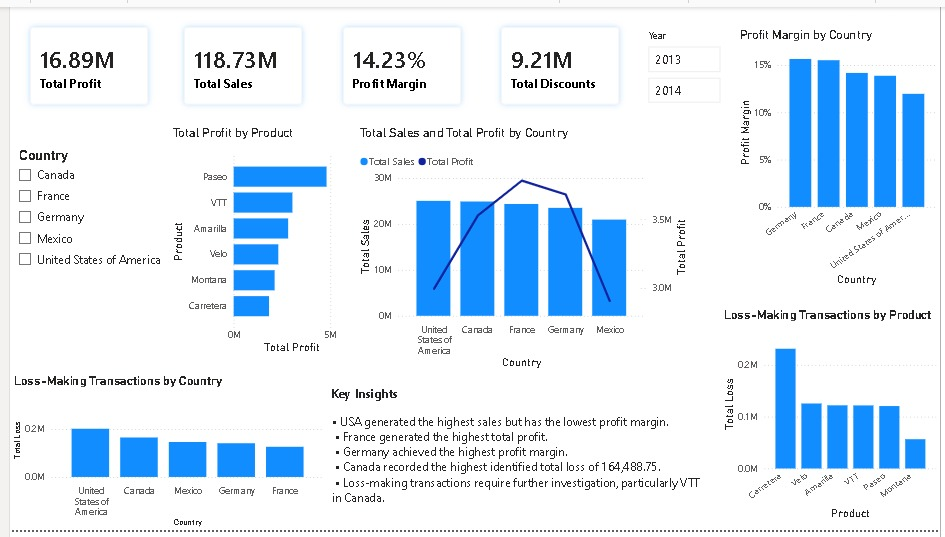

Layout of this report page (visuals, bound fields, positions):
{"tool":"powerbi","page":{"name":"Page 1","canvas":[1280,720],"ordinal":0},"visuals":[{"type":"cardVisual","fields":{"Data":["Measures (2).Total Profit"]},"box":[0,0,218,162.4],"z":0},{"type":"cardVisual","fields":{"Data":["Measures (2).Total Sales"]},"box":[212.2,0,218,162],"z":1000},{"type":"cardVisual","fields":{"Data":["Measures (2).Profit Margin"]},"box":[430.2,0,218,162],"z":2000},{"type":"cardVisual","fields":{"Data":["Measures (2).Total Discounts"]},"box":[648.3,0,218,162],"z":3000},{"type":"slicer","fields":{"Values":["Fact_Sales.Country"]},"box":[0,187.2,213.3,225.7],"z":4000},{"type":"slicer","fields":{"Values":["Fact_Sales.Year"]},"box":[865.7,27.5,140.4,106],"z":5000},{"type":"lineClusteredColumnComboChart","fields":{"Category":["Fact_Sales.Country"],"Y":["Measures (2).Total Sales"],"Y2":["Measures (2).Total Profit"]},"box":[476.2,162.4,459.7,340],"z":6000},{"type":"clusteredColumnChart","fields":{"Category":["Fact_Sales.Country"],"Y":["Measures (2).Profit Margin"]},"box":[999.2,27.5,280.8,360.6],"z":7000},{"type":"clusteredBarChart","fields":{"Category":["Fact_Sales.Product"],"Y":["Measures (2).Total Profit"]},"box":[218.8,162.4,262.9,319.3],"z":8000},{"type":"clusteredColumnChart","title":"Loss-Making Transactions by Country","fields":{"Category":["Fact_Sales.Country"],"Y":["Measures (2).Total Loss"]},"box":[0,503.7,437.7,216.1],"z":9001},{"type":"clusteredColumnChart","title":"Loss-Making Transactions by Product","fields":{"Y":["Measures (2).Total Loss"],"Category":["Fact_Sales.Product"]},"box":[977.2,412.9,302.8,297.3],"z":9002},{"type":"textbox","box":[437.7,516.1,529.9,203.7],"z":9003}]}

Visuals, with their boxes in screenshot pixels (x1, y1, x2, y2), scaled from the page's 1280x720 canvas onto the 945x537 screenshot:
cardVisual - Measures (2).Total Profit: left=0, top=0, right=161, bottom=121
cardVisual - Measures (2).Total Sales: left=157, top=0, right=318, bottom=121
cardVisual - Measures (2).Profit Margin: left=318, top=0, right=479, bottom=121
cardVisual - Measures (2).Total Discounts: left=479, top=0, right=640, bottom=121
slicer - Fact_Sales.Country: left=0, top=140, right=157, bottom=308
slicer - Fact_Sales.Year: left=639, top=21, right=743, bottom=100
lineClusteredColumnComboChart - Fact_Sales.Country x Measures (2).Total Sales: left=352, top=121, right=691, bottom=375
clusteredColumnChart - Fact_Sales.Country x Measures (2).Profit Margin: left=738, top=21, right=944, bottom=289
clusteredBarChart - Fact_Sales.Product x Measures (2).Total Profit: left=162, top=121, right=356, bottom=359
"Loss-Making Transactions by Country" clusteredColumnChart: left=0, top=376, right=323, bottom=536
"Loss-Making Transactions by Product" clusteredColumnChart: left=721, top=308, right=944, bottom=530
textbox: left=323, top=385, right=714, bottom=536
